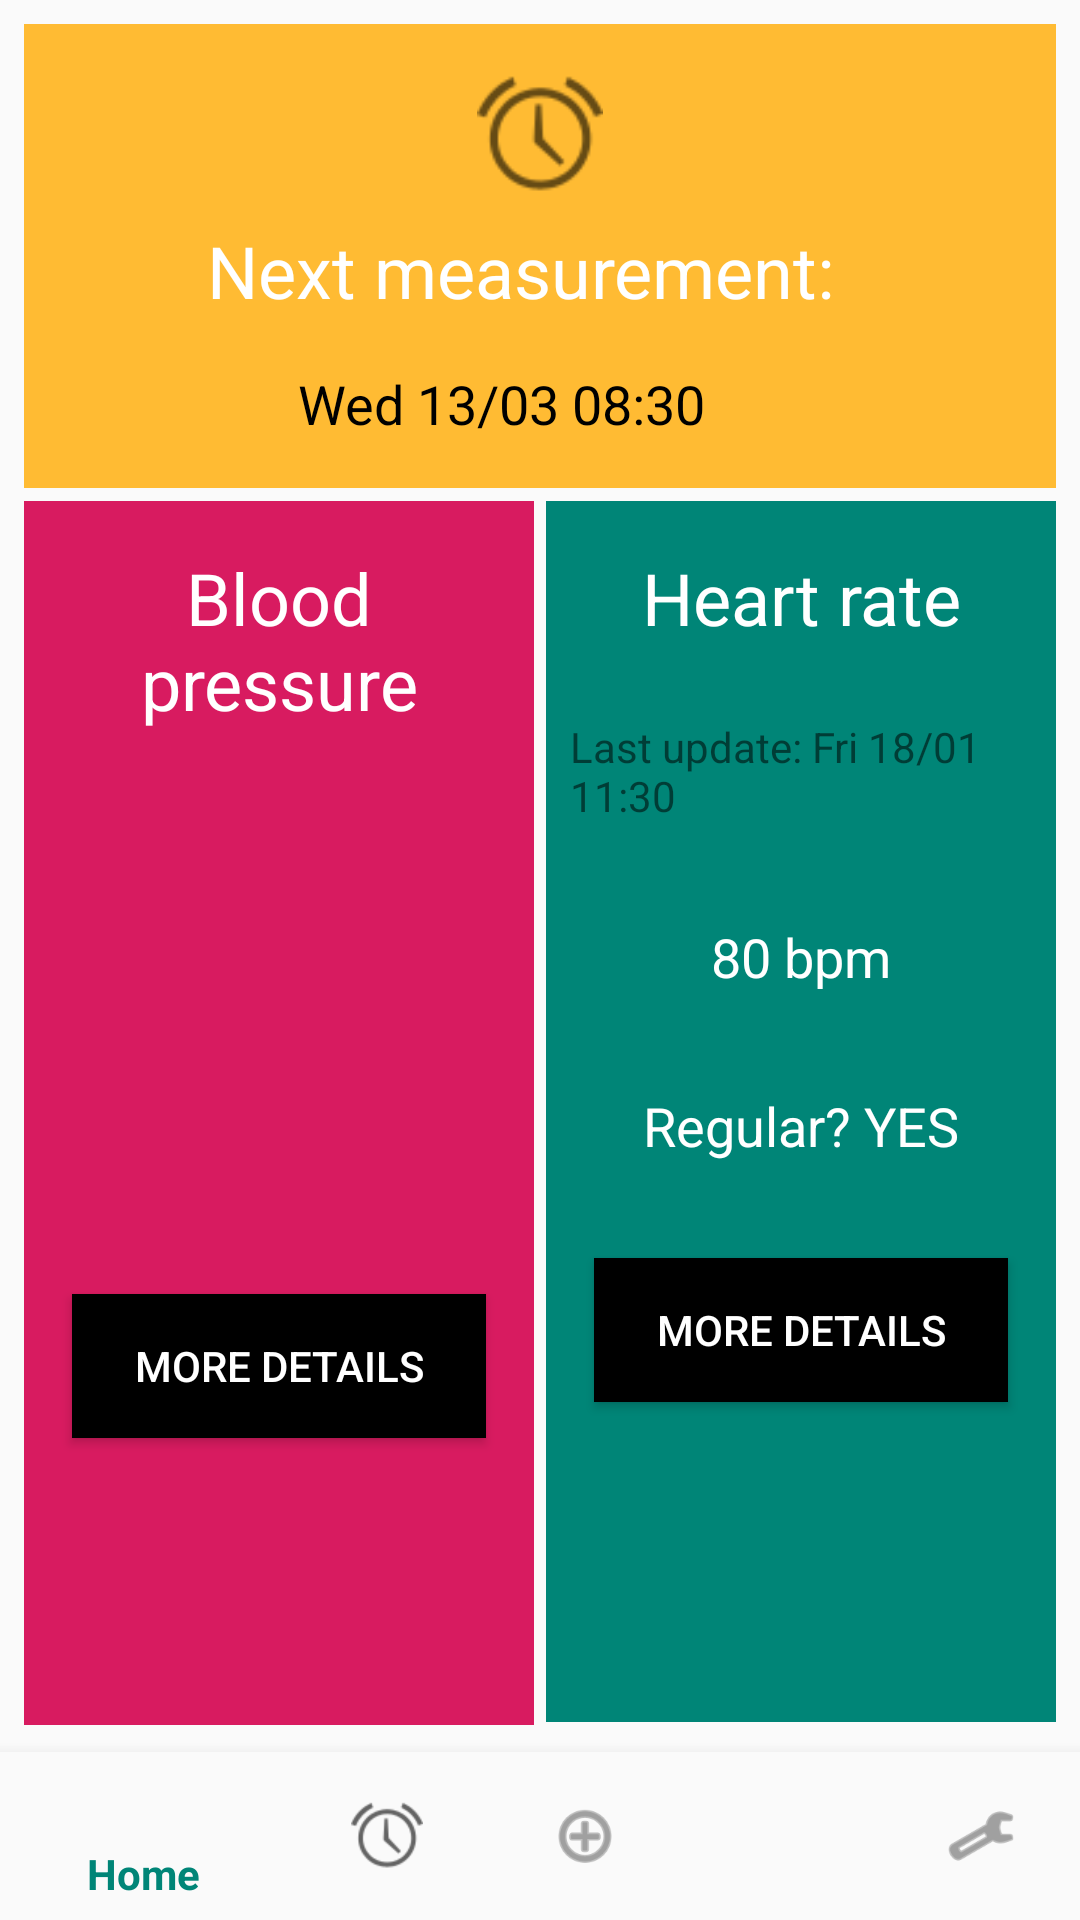

Icon bounding boxes for this 1080px x 1920px phone screenshot, format (x1, y1, x2, y2):
lock idle alarm: (477, 77, 603, 191)
